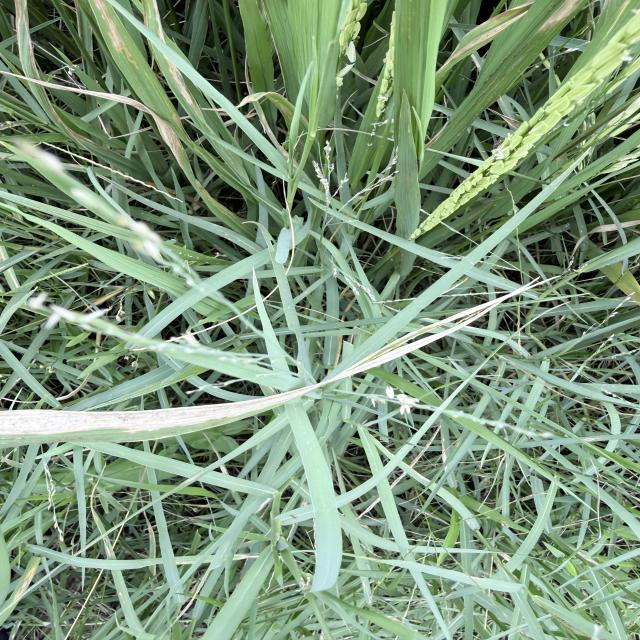Chay bia la: (0, 276, 556, 437)
